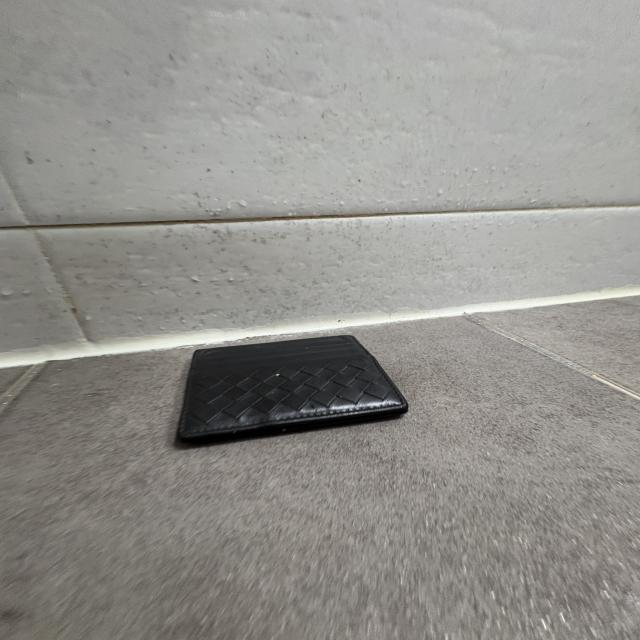wallet: (174, 335, 410, 451)
